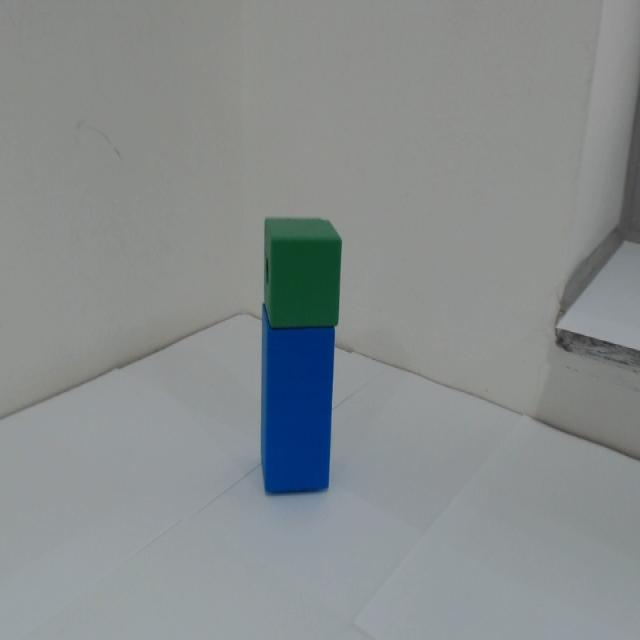cube: (253, 205, 347, 331)
